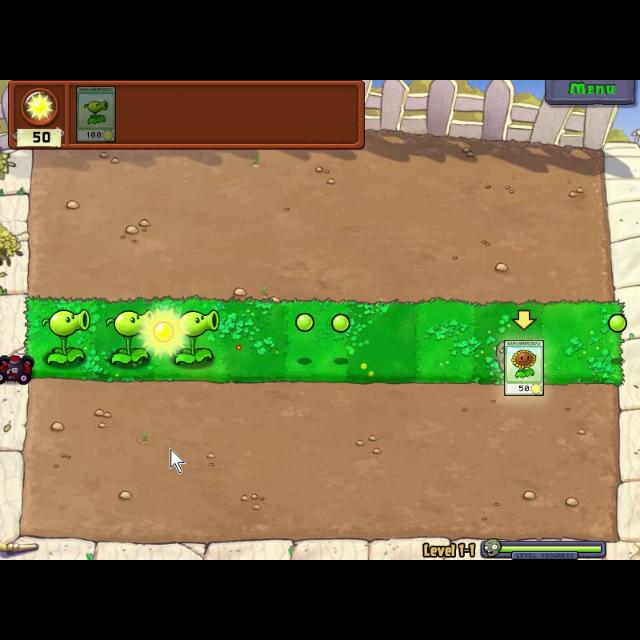Garden: (21, 294, 626, 390)
Menu Button: (543, 80, 637, 106)
Peashooter: (76, 81, 116, 142)
Peashooter Seed: (168, 304, 224, 368), (100, 306, 156, 366), (38, 304, 90, 368)
Reward: (502, 338, 548, 398)
Seed Panel: (6, 80, 368, 152)
Sun: (137, 304, 189, 356)
